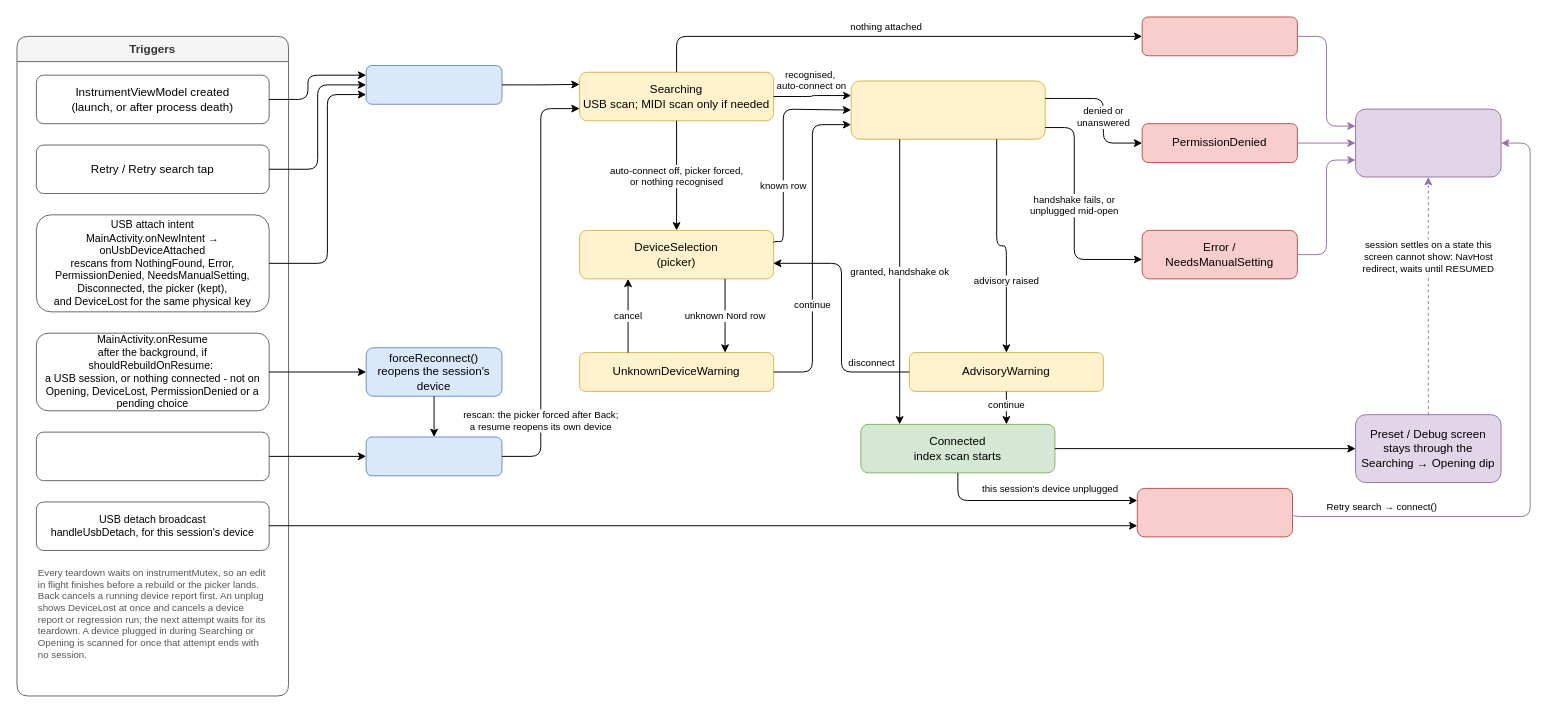
This 1555x713 diagram has some shape labels left out. Here are the shapes that lost their labels. From the top down, the box of each, then its label:
(1141, 16, 1297, 56): NothingFound
(365, 65, 502, 104): connect()
(850, 80, 1045, 139): Opening permission dialog if needed, open, drain, handshake
(1355, 108, 1501, 177): ConnectScreen renders every state on this side
(35, 431, 269, 481): Back arrow on the preset screen disconnect(): Searching at once
(365, 436, 502, 476): teardown
(1136, 487, 1293, 537): DeviceLost (remembers the physical key)
